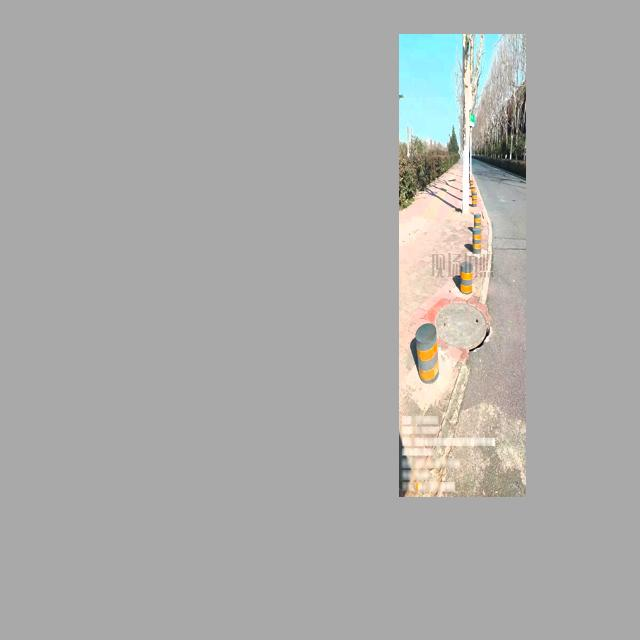circle: (433, 298, 491, 355)
